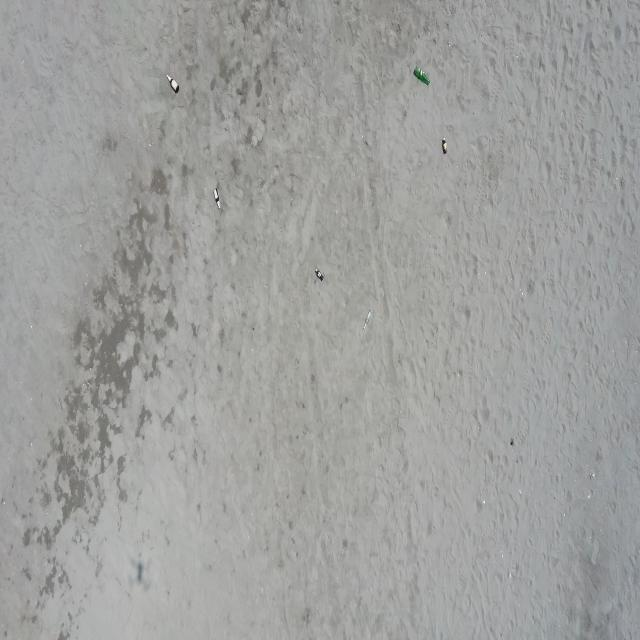glass: (414, 66, 430, 84), (166, 74, 179, 93), (362, 309, 372, 331), (213, 188, 221, 210), (316, 268, 324, 281), (443, 137, 447, 154)
